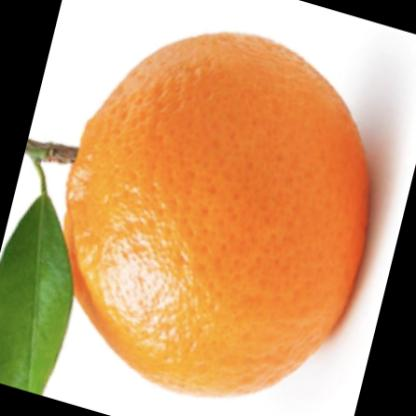fresh: (60, 35, 372, 398)
